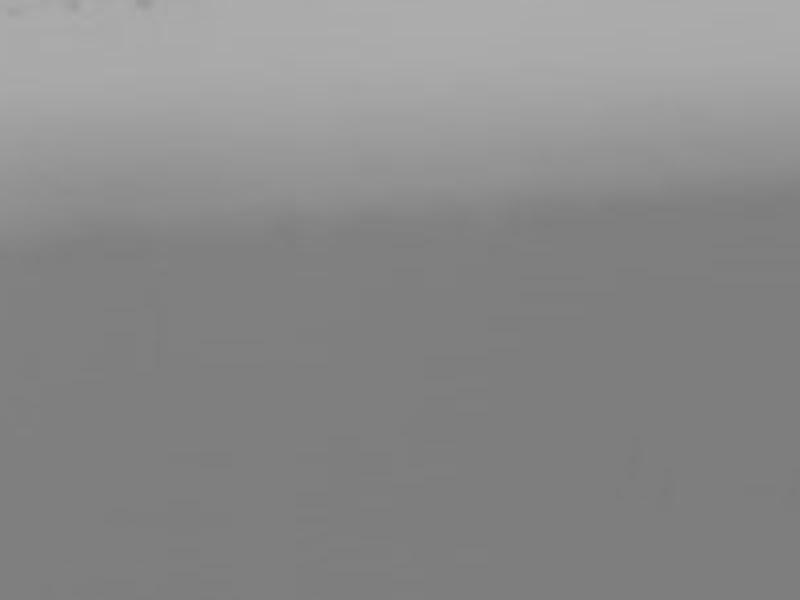defect: (1, 2, 23, 19), (58, 1, 82, 12), (132, 1, 158, 11)
